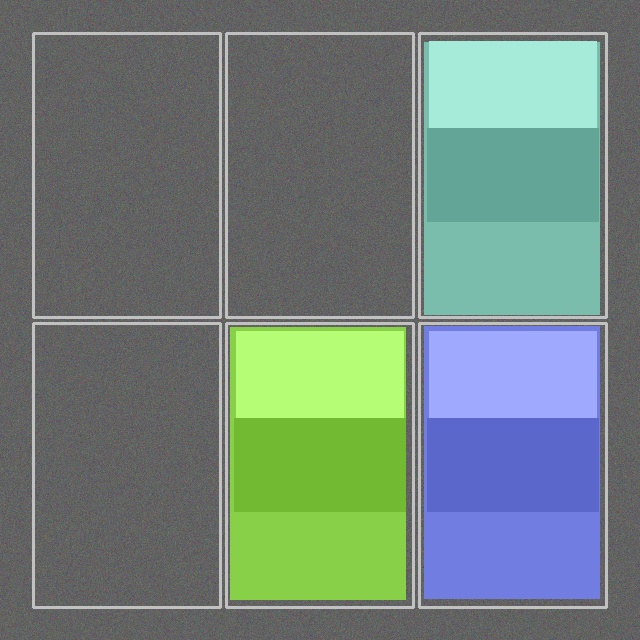space-empty: (35, 35, 218, 315), (228, 35, 411, 315), (35, 325, 218, 605)
space-occupied: (421, 35, 604, 315), (228, 325, 411, 605), (421, 325, 604, 605)
